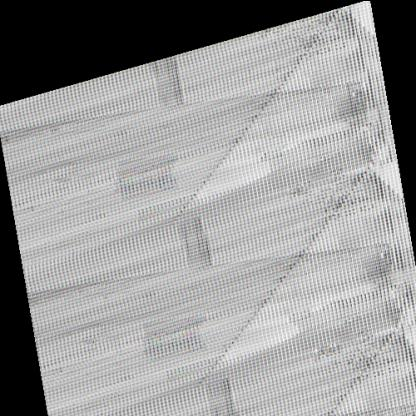Damage: (316, 85, 384, 273)
